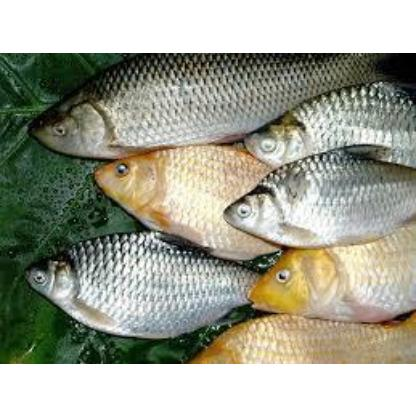ikan-mas: (30, 52, 366, 154), (27, 228, 257, 340), (92, 145, 276, 257), (226, 148, 416, 242), (242, 76, 416, 176), (255, 245, 415, 320), (205, 314, 415, 362)
